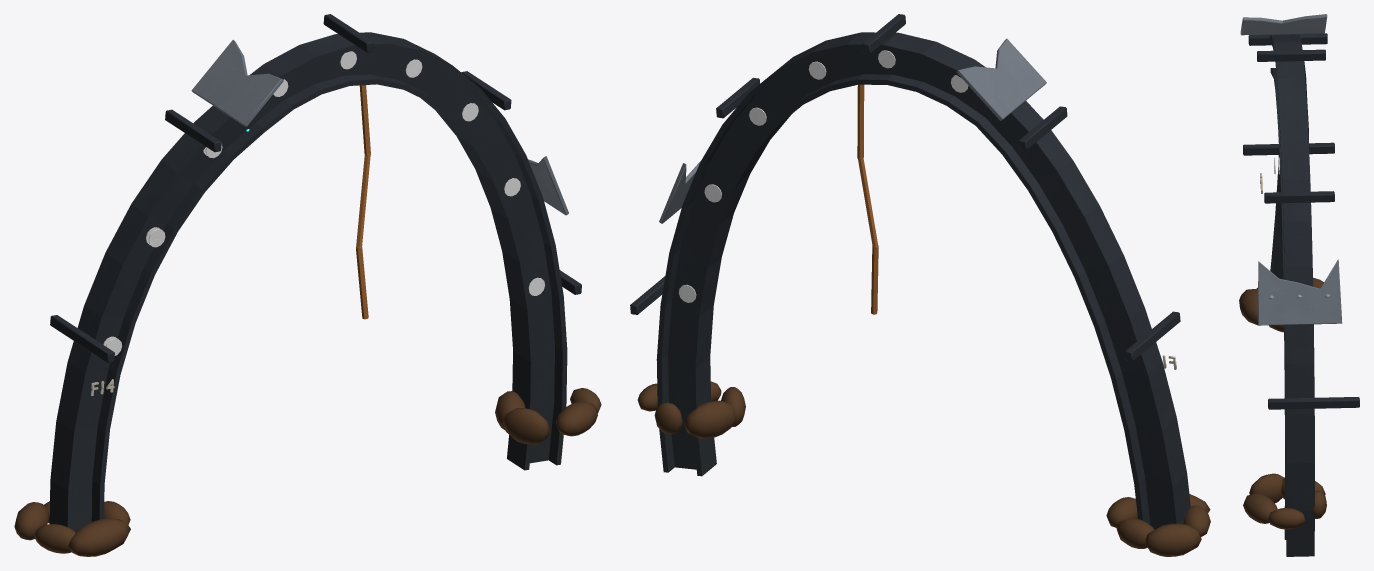
Rendered from hull_rib_arch.glb.
The picture shows the model from 3 angles, left to right: view 1: azimuth 30°, elevation 25°; view 2: azimuth 150°, elevation 25°; view 3: azimuth 270°, elevation 25°; orthographic projection. The views are drawn at different scales.
Visible parts, largest first — view 1: hull_rib_arch; view 2: hull_rib_arch; view 3: hull_rib_arch.
Part boxes in pixels (x1=…): hull_rib_arch: x1=14, y1=14, x2=601, y2=556; hull_rib_arch: x1=630, y1=14, x2=1210, y2=556; hull_rib_arch: x1=1239, y1=14, x2=1359, y2=556.
Size of the model in its own units: 6.04 by 4.92 by 1.29.
8 materials, 7 textured.
